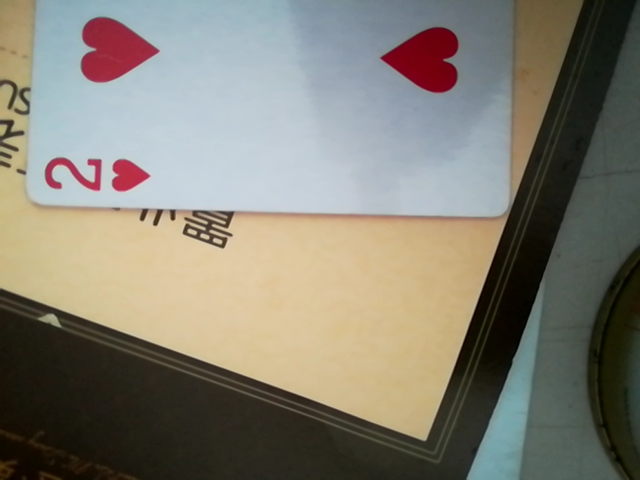hx 2: (7, 1, 518, 217)
